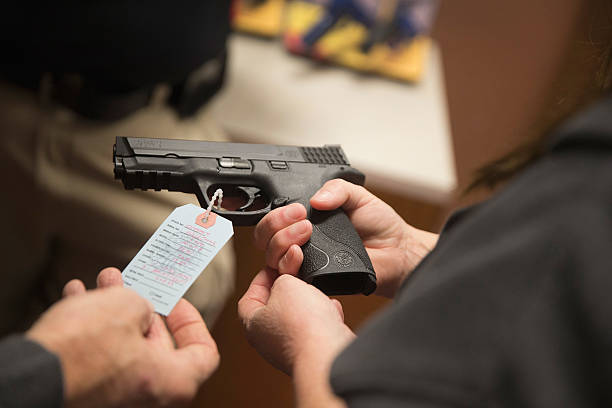pistol: (111, 134, 380, 299)
